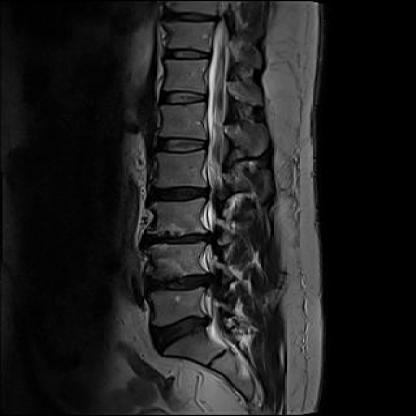Disc Bulgerotation: (137, 210, 246, 257), (149, 308, 211, 359)
